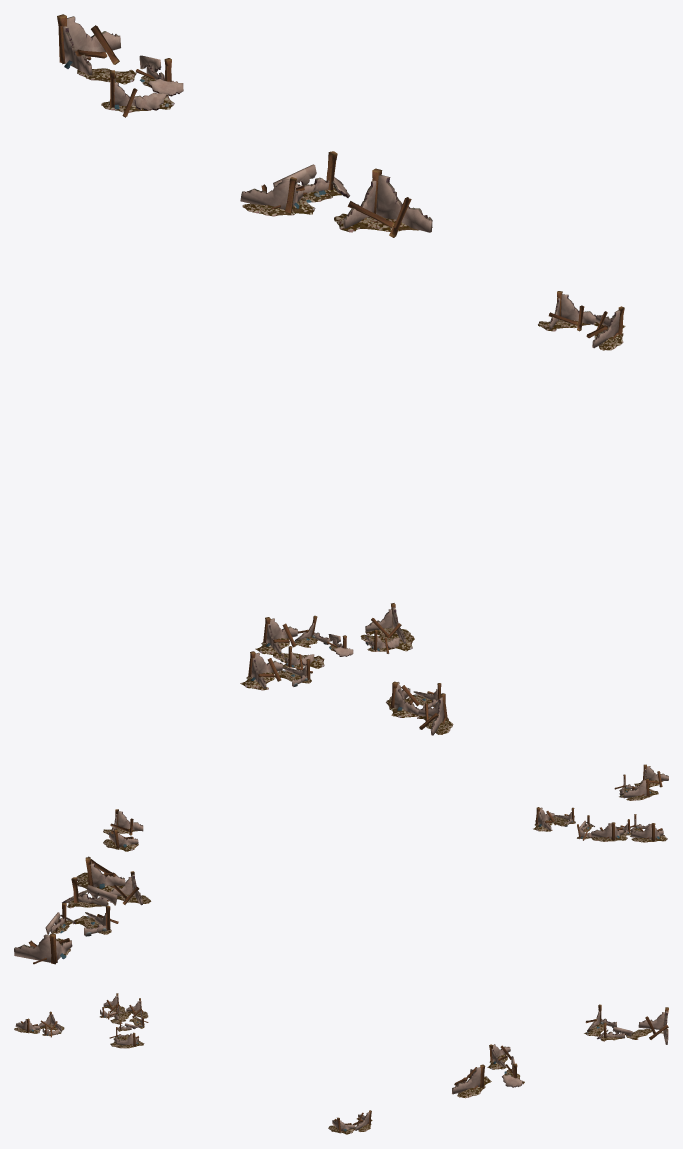
File: DestroyedHouses.FBX
The picture shows the model from 3 angles, top to bottom: view 1: azimuth 30°, elevation 25°; view 2: azimuth 150°, elevation 25°; view 3: azimuth 270°, elevation 25°; orthographic projection. The views are drawn at different scales.
Visible parts, largest first — view 1: Ruins_2, Ruins_005, Ruins_009; view 2: Ruins_2, Ruins_007, Ruins_005, Ruins_017, Ruins_012, Ruins_009, Ruins, Ruins_020; view 3: Ruins_2, Ruins_005, Ruins_007, Broken_Wall_007, Ruins_3, Ruins_009.
Part boxes in pixels (bbox=[...]): Ruins_2: bbox=[57, 14, 624, 338]; Ruins_005: bbox=[343, 175, 432, 232]; Ruins_009: bbox=[240, 178, 303, 209]; Ruins_2: bbox=[14, 809, 139, 964]; Ruins_007: bbox=[62, 884, 117, 906]; Ruins_005: bbox=[87, 856, 125, 888]; Ruins_017: bbox=[591, 822, 623, 840]; Ruins_012: bbox=[631, 823, 663, 840]; Ruins_009: bbox=[109, 874, 142, 905]; Ruins: bbox=[84, 912, 106, 936]; Ruins_020: bbox=[643, 764, 668, 787]; Ruins_2: bbox=[334, 1004, 668, 1132]; Ruins_005: bbox=[452, 1067, 480, 1094]; Ruins_007: bbox=[502, 1056, 522, 1087]; Broken_Wall_007: bbox=[457, 1074, 491, 1098]; Ruins_3: bbox=[597, 1026, 632, 1039]; Ruins_009: bbox=[491, 1044, 510, 1067].
Bounding box in the file's own units: 329 × 90.84 × 605.
